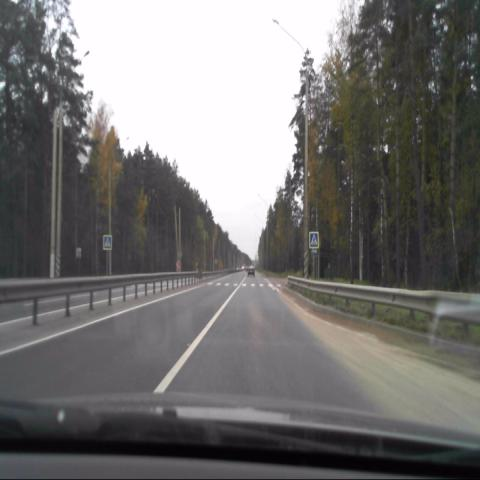5_19_1: (308, 231, 319, 249), (102, 234, 113, 251)
